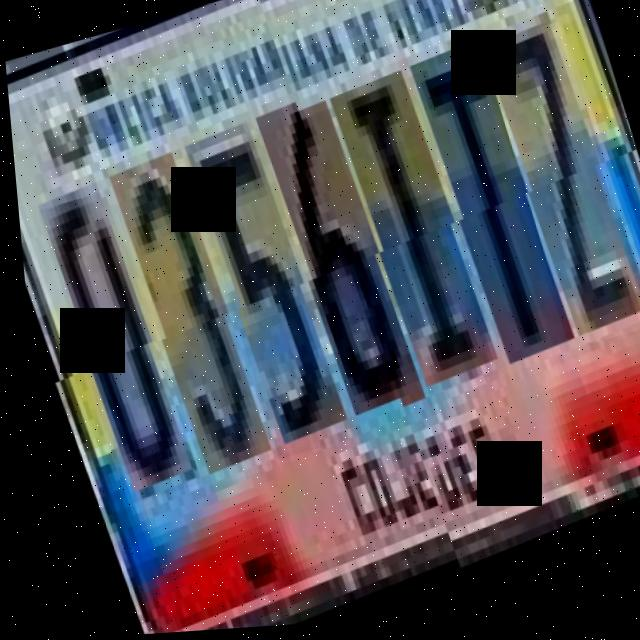0: (33, 188, 191, 510)
3: (105, 161, 270, 494)
5: (181, 134, 346, 466)
6: (253, 107, 422, 440)
I: (325, 79, 496, 405)
T: (406, 51, 575, 385)
Z: (478, 26, 640, 359)
